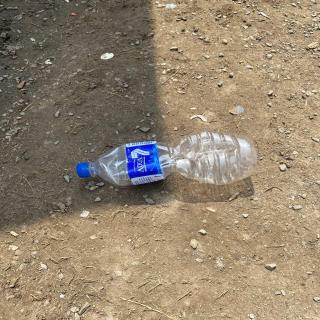Plastic-bottle: (74, 130, 261, 189)
